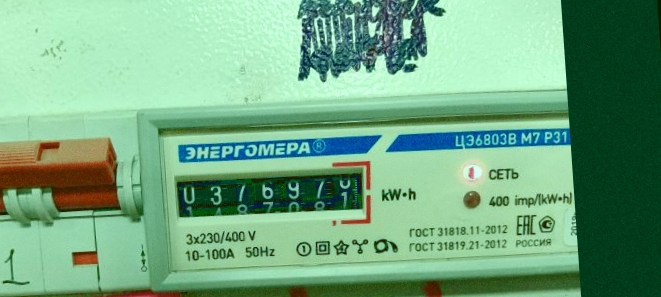0: (179, 181, 195, 204)
1: (337, 189, 349, 209)
3: (207, 183, 223, 205)
6: (258, 176, 274, 200)
7: (232, 179, 249, 203), (310, 175, 327, 199)
9: (284, 176, 299, 199)
screen: (164, 149, 377, 239)
